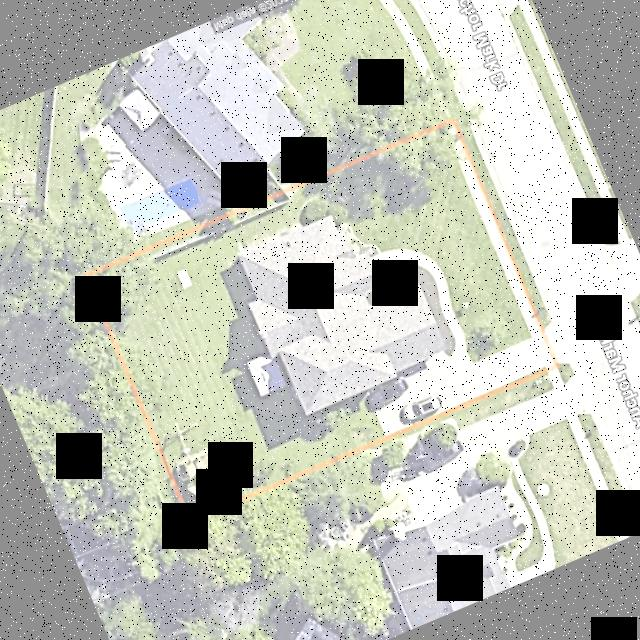Driveway: (363, 335, 544, 433)
Extra Driveway: (544, 322, 567, 361)
Extra Lawn: (456, 115, 550, 327)
House: (238, 216, 444, 414)
Other: (162, 421, 215, 505), (176, 266, 194, 288)
Sidewalk: (440, 122, 553, 366), (339, 221, 467, 353)
